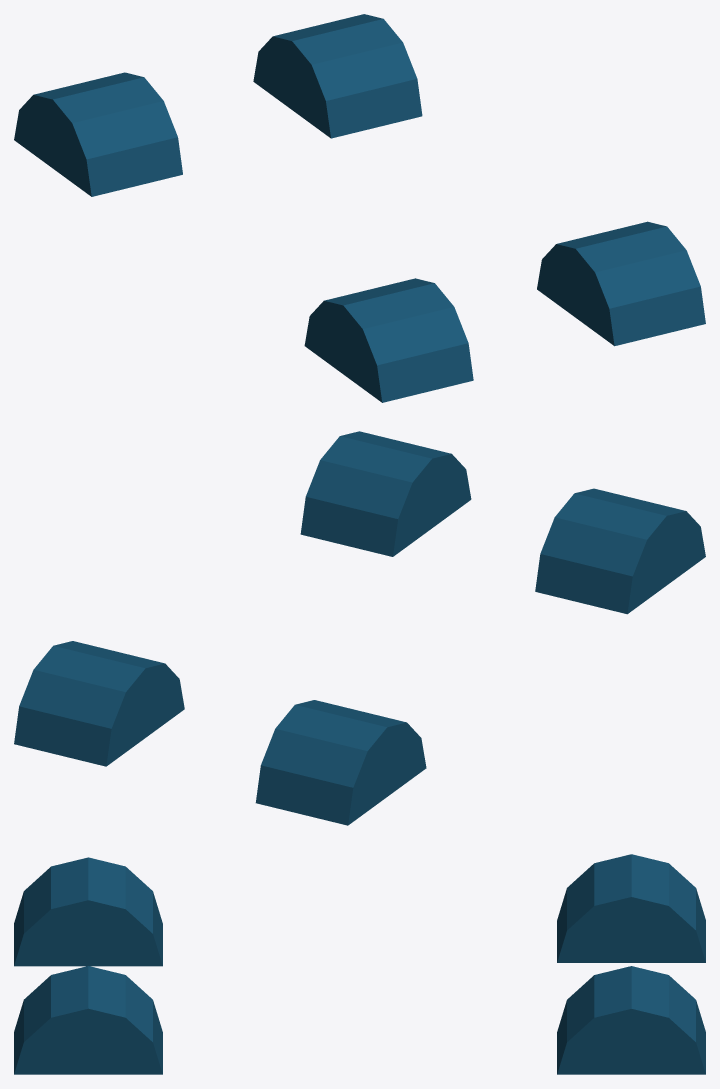
The model's file is wheelGuards1.glb.
The picture shows the model from 3 angles, top to bottom: view 1: azimuth 30°, elevation 25°; view 2: azimuth 150°, elevation 25°; view 3: azimuth 270°, elevation 25°; orthographic projection. The views are drawn at different scales.
Parts seen in each view (by area): view 1: wheelGuards1; view 2: wheelGuards1; view 3: wheelGuards1.
Boxes of the visible parts, x1,y1,x2,y2 form: wheelGuards1: [14, 14, 705, 402]; wheelGuards1: [14, 431, 705, 825]; wheelGuards1: [14, 854, 705, 1074].
Bounding box in the file's own units: 3.66 × 0.7453 × 6.92.
Materials: 1 (1 with a texture image).
